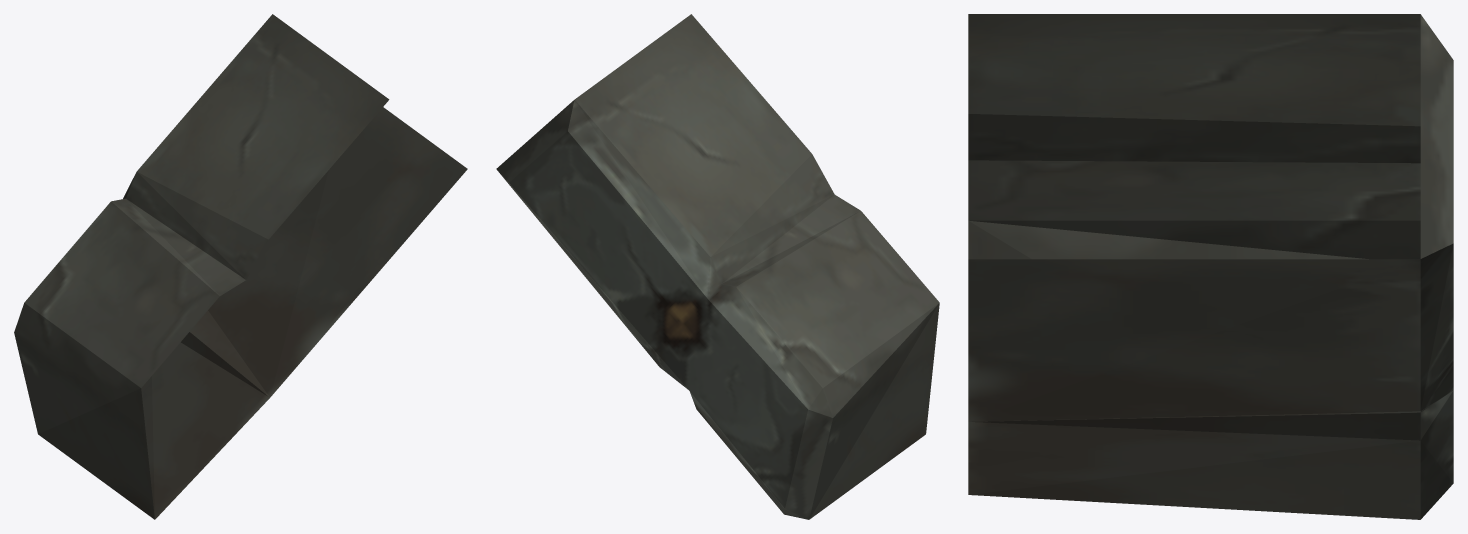
File: yw_shanlin_doortop_23.FBX
The picture shows the model from 3 angles, left to right: view 1: azimuth 30°, elevation 25°; view 2: azimuth 150°, elevation 25°; view 3: azimuth 270°, elevation 25°; orthographic projection. The views are drawn at different scales.
Visible parts, largest first — view 1: yw_shanlin_doortop_23; view 2: yw_shanlin_doortop_23; view 3: yw_shanlin_doortop_23.
Part boxes in pixels (<box>): yw_shanlin_doortop_23: <box>14,14,467,519</box>; yw_shanlin_doortop_23: <box>496,14,939,519</box>; yw_shanlin_doortop_23: <box>968,14,1453,519</box>.
Bounding box in the file's own units: 81.14 × 83.75 × 52.35.
